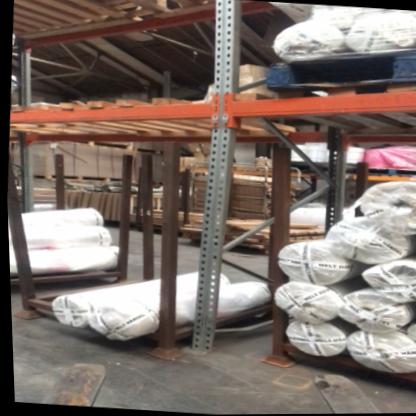vertical_damage: (179, 318, 221, 359)
